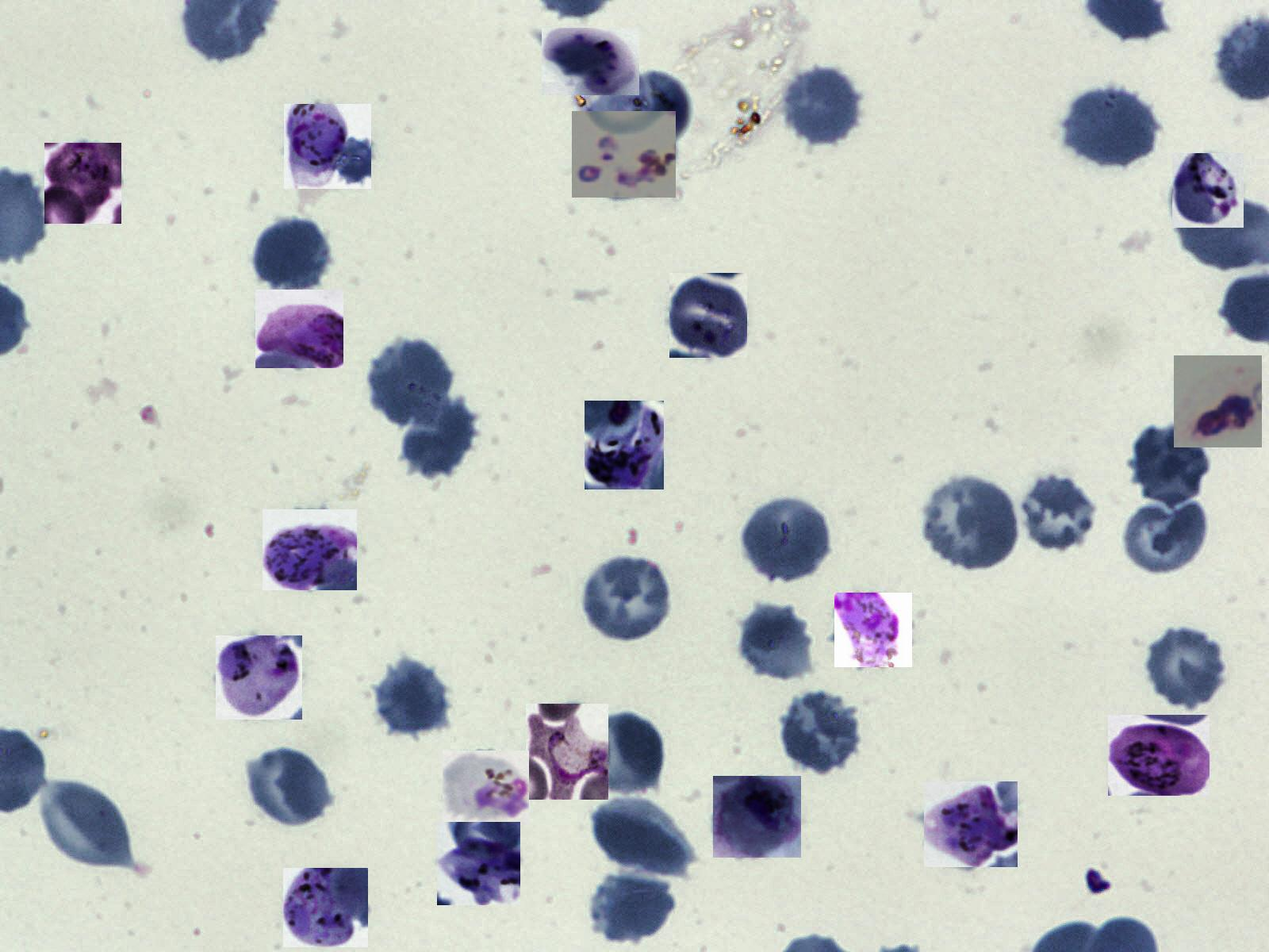Infected: (572, 112, 676, 198), (1108, 715, 1210, 796), (1174, 355, 1262, 447), (924, 781, 1018, 867), (526, 704, 608, 800), (263, 509, 357, 590), (284, 104, 371, 189), (216, 635, 302, 720), (713, 776, 801, 858), (585, 401, 664, 489), (437, 822, 520, 905), (255, 290, 343, 368), (283, 868, 368, 947), (669, 273, 747, 358), (443, 750, 529, 825), (542, 29, 639, 95), (44, 143, 121, 224), (834, 593, 912, 667), (1172, 153, 1244, 228)
Uninfected: (920, 470, 1022, 571), (36, 777, 133, 871), (580, 553, 677, 641), (740, 495, 831, 584), (590, 797, 692, 876), (582, 708, 668, 798), (367, 336, 452, 427), (1064, 86, 1158, 167), (588, 865, 681, 945), (1142, 624, 1228, 709), (244, 744, 332, 827), (1120, 494, 1211, 574), (1017, 469, 1098, 555), (778, 691, 860, 773), (735, 601, 817, 682), (1131, 424, 1212, 504), (781, 68, 862, 147), (400, 398, 477, 478), (255, 216, 332, 292), (374, 662, 450, 736)
